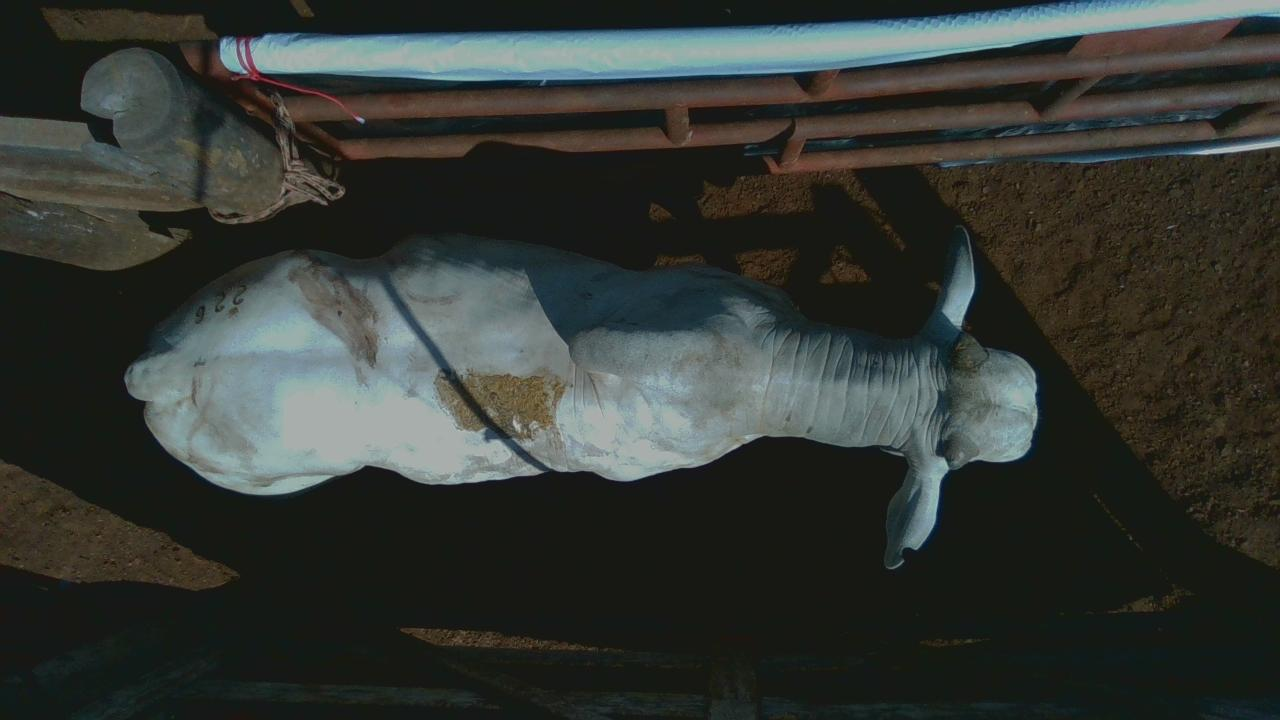cattle: (123, 224, 1039, 570)
